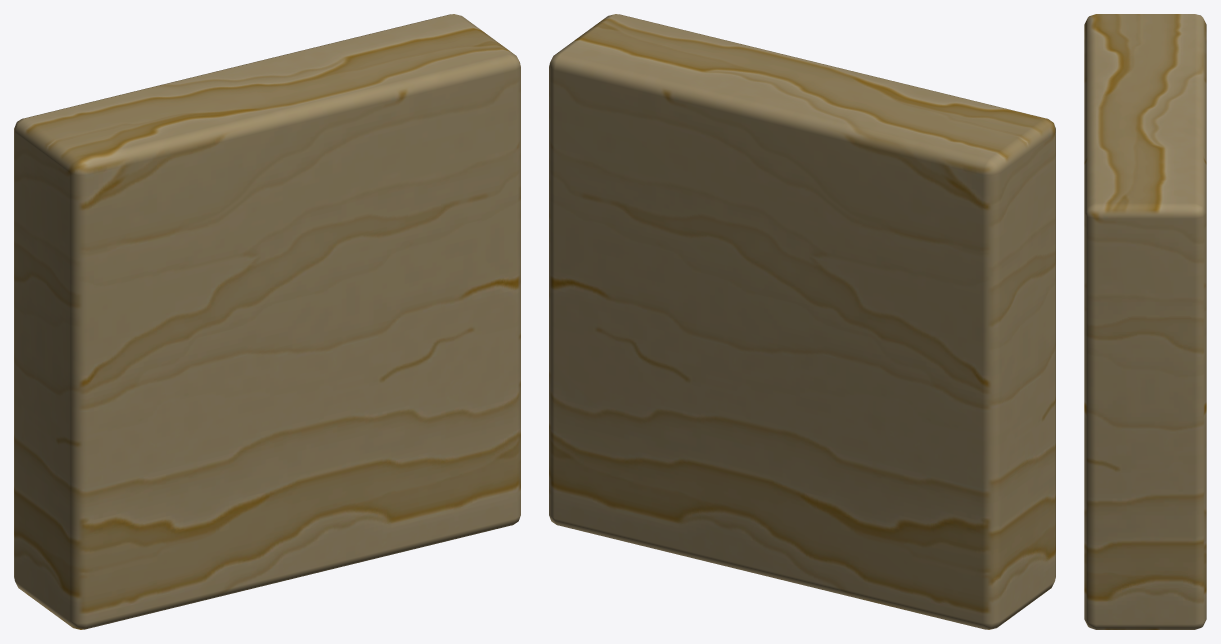
File: SM_Platform_2m_Half_01_D.glb
3 views of the same model, side by side, from view 1: azimuth 30°, elevation 25°; view 2: azimuth 150°, elevation 25°; view 3: azimuth 270°, elevation 25° (orthographic). The views are drawn at different scales.
Visible parts, largest first — view 1: SM_Platform_2m_Half_01_D; view 2: SM_Platform_2m_Half_01_D; view 3: SM_Platform_2m_Half_01_D.
Boxes of the visible parts, <box> form: SM_Platform_2m_Half_01_D: <box>14,14,520,629</box>; SM_Platform_2m_Half_01_D: <box>549,14,1055,629</box>; SM_Platform_2m_Half_01_D: <box>1084,14,1206,629</box>.
Size of the model in its own units: 2 by 2 by 0.52.
Materials: 1 (1 with a texture image).
